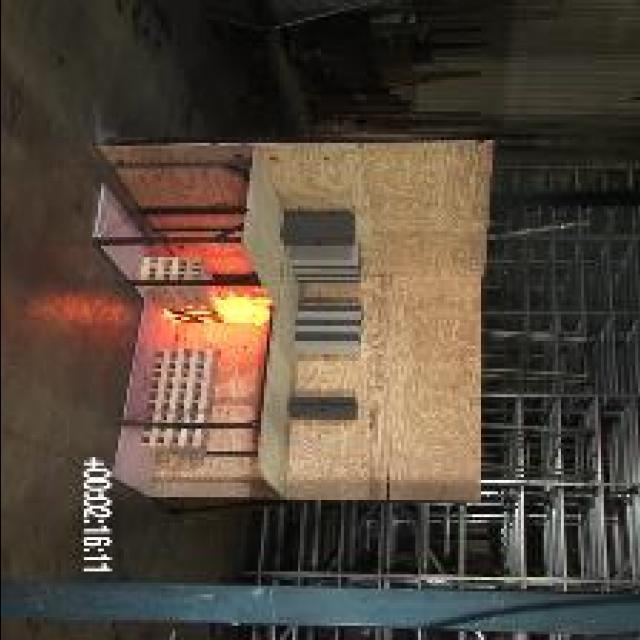Fire: (212, 296, 272, 328)
